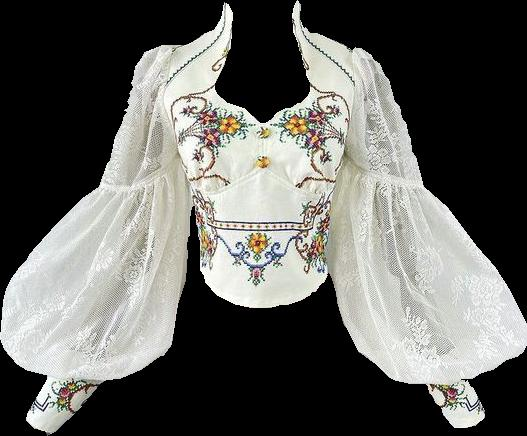Bodice: (164, 0, 356, 307)
Neckline: (213, 0, 314, 126)
Sleeve: (324, 47, 526, 427), (0, 45, 194, 434)
Sleeveline: (97, 153, 178, 188), (342, 153, 424, 187), (160, 46, 177, 125), (46, 373, 105, 385), (350, 48, 360, 118), (24, 415, 54, 435), (454, 412, 485, 429), (423, 375, 470, 385)
Waistline: (199, 266, 330, 308)
